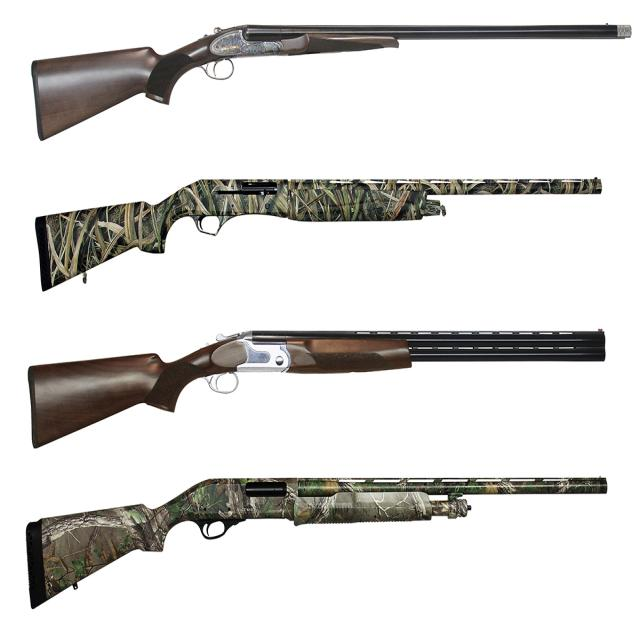ShotGun: (25, 477, 609, 609), (31, 26, 630, 140), (35, 177, 604, 291), (143, 330, 607, 414)
